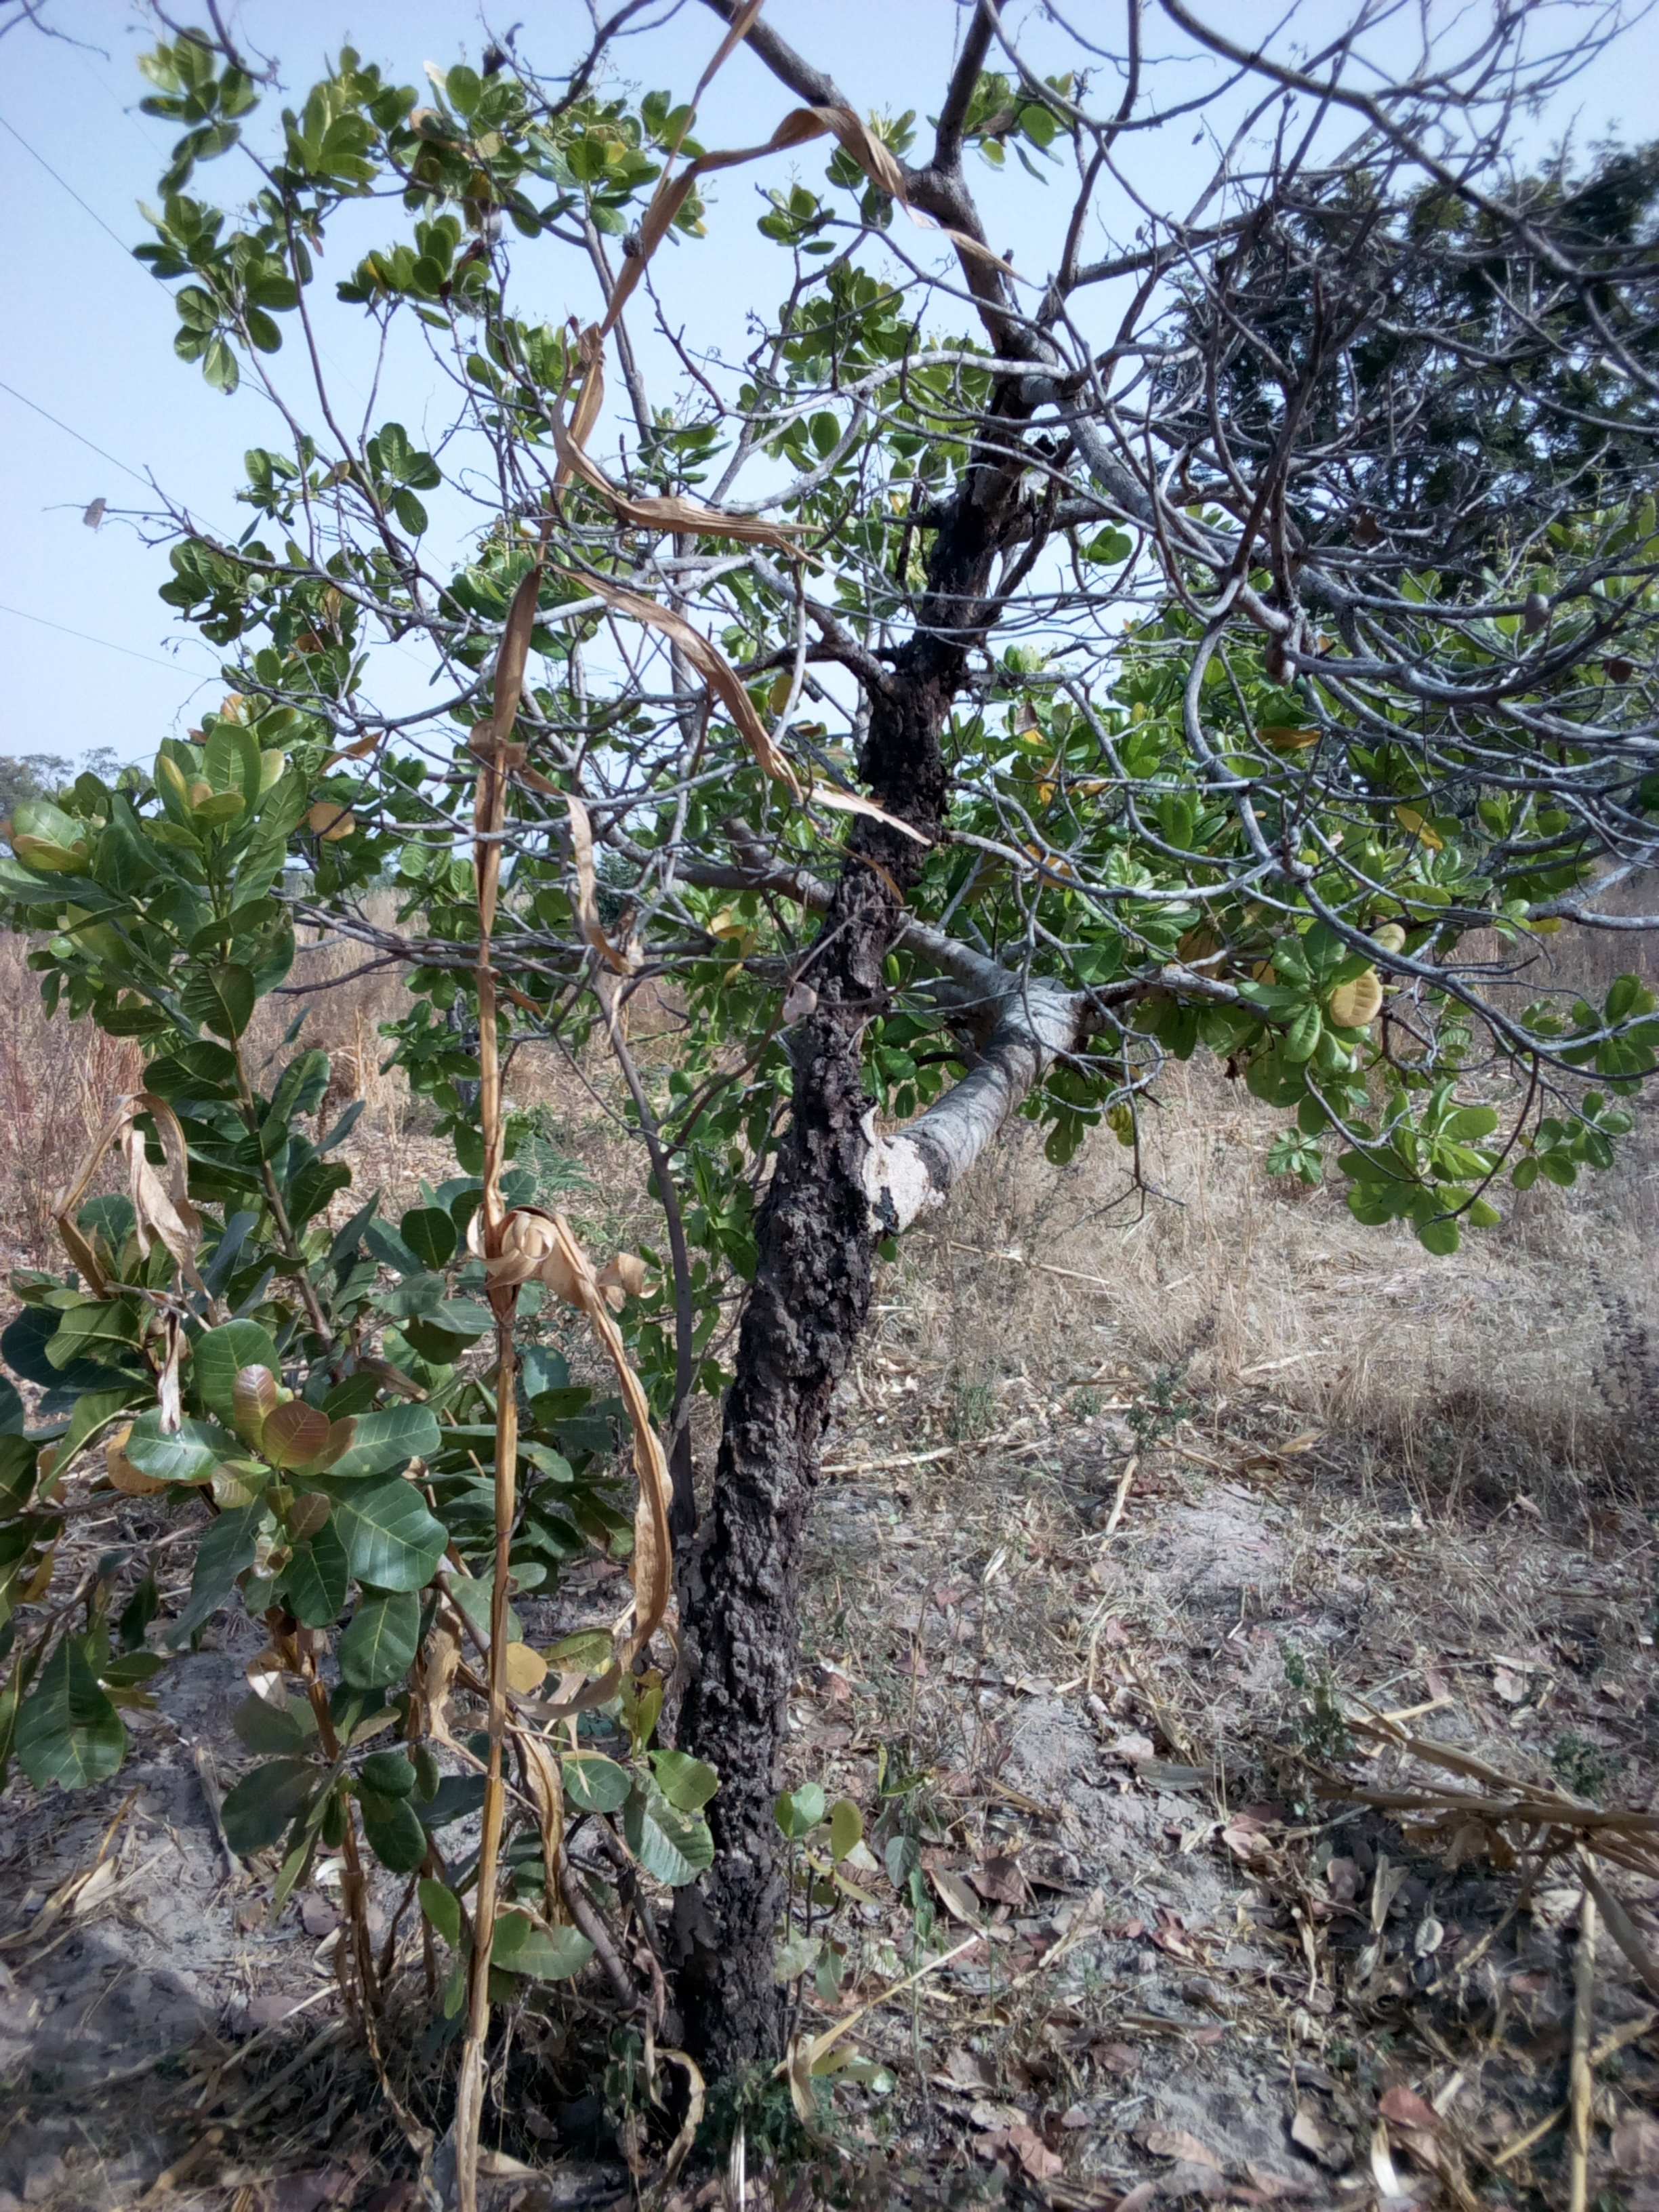Termites: (674, 1031, 850, 2146)
